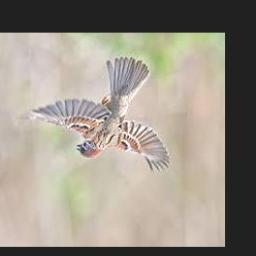Sparrow: (22, 57, 170, 173)
